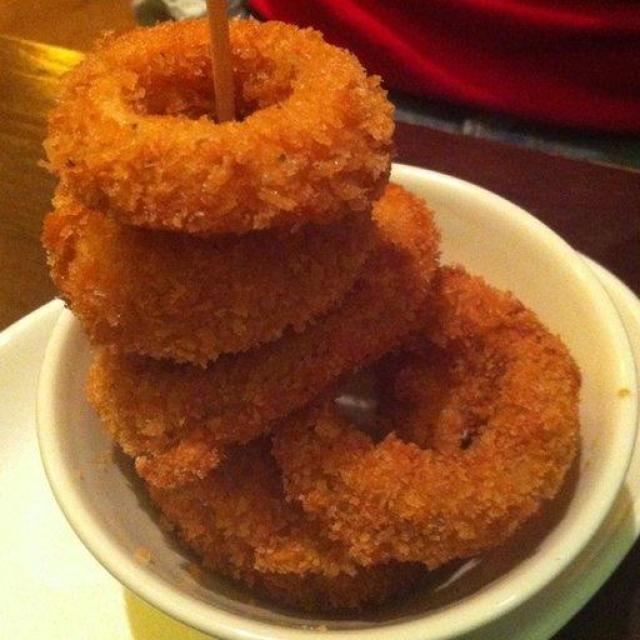food_waste: (38, 178, 606, 594), (56, 18, 397, 226)
